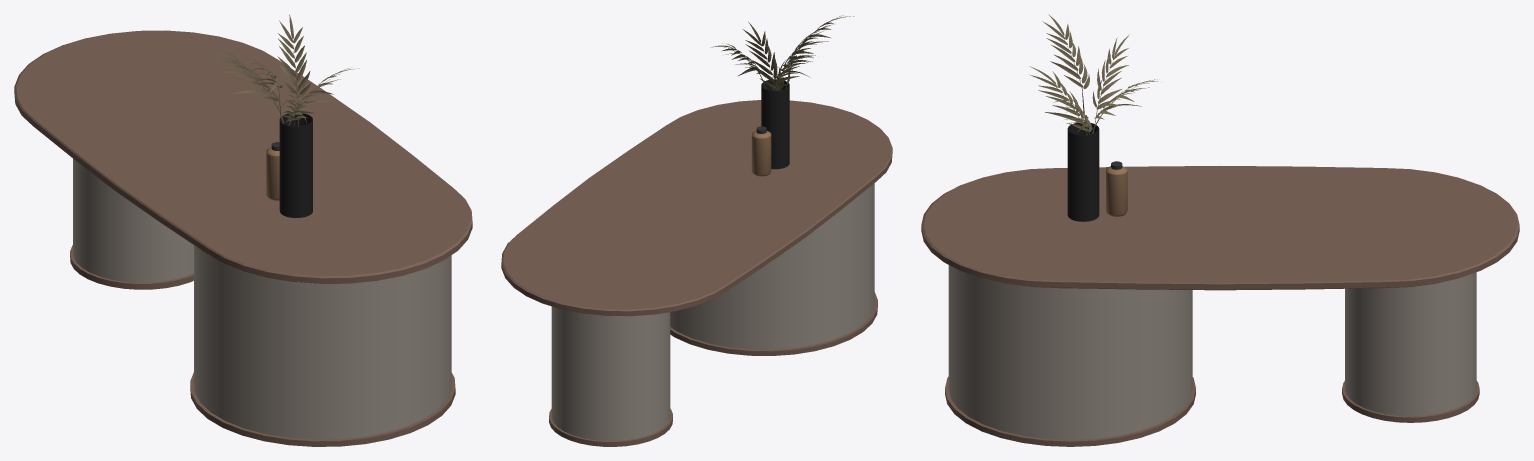
The model's file is dining_table_3.glb.
3 renders of one model, left to right at view 1: azimuth 30°, elevation 25°; view 2: azimuth 150°, elevation 25°; view 3: azimuth 270°, elevation 25°, orthographic. The views are drawn at different scales.
Parts seen in each view (by area): view 1: Object_2; view 2: Object_2; view 3: Object_2.
Boxes of the visible parts, x1,y1,x2,y2 form: Object_2: [14, 14, 472, 446]; Object_2: [501, 15, 892, 446]; Object_2: [921, 14, 1519, 446].
Bounding box in the file's own units: 46.5 × 61.93 × 99.77.
1 material, 1 textured.
